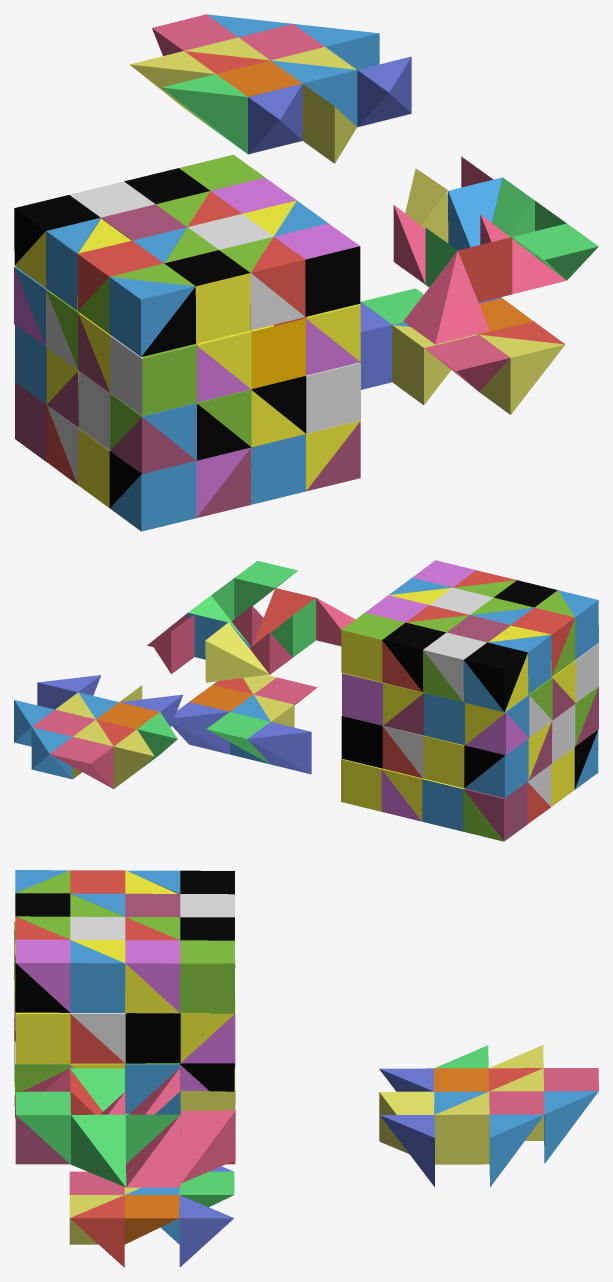
3 views of the same model, one above another, from view 1: azimuth 30°, elevation 25°; view 2: azimuth 150°, elevation 25°; view 3: azimuth 270°, elevation 25° (orthographic). The views are drawn at different scales.
Parts seen in each view (by area): view 1: Cube.365, Cube.297, Cube.221, Cube.291, Cube.208, Cube.295, Cube.375, Cube.248, Cube.369, Cube.300, Cube.212, Cube.325 (+82 smaller); view 2: Cube.309, Cube.358, Cube.229, Cube.231, Cube.269, Cube.307, Cube.204, Cube.351, Cube.328, Cube.337, Cube.273, Cube.279 (+81 smaller); view 3: Cube.318, Cube.334, Cube.331, Cube.377, Cube.327, Cube.321, Cube.343, Cube.374, Cube.328, Cube.319, Cube.347, Cube.320 (+54 smaller).
Boxes of the visible parts, x1,y1,x2,y2 form: Cube.365: (109, 277, 195, 356); Cube.297: (403, 251, 489, 344); Cube.221: (110, 461, 196, 531); Cube.291: (162, 74, 247, 153); Cube.208: (479, 334, 565, 414); Cube.295: (142, 344, 196, 416); Cube.375: (305, 246, 360, 316); Cube.248: (306, 362, 360, 433); Cube.369: (195, 273, 250, 343); Cube.300: (248, 83, 302, 154); Cube.212: (251, 434, 305, 504); Cube.325: (357, 56, 411, 127); Cube.309: (205, 622, 269, 682); Cube.358: (464, 642, 527, 711); Cube.229: (247, 722, 311, 774); Cube.231: (463, 782, 527, 841); Cube.269: (464, 738, 528, 798); Cube.307: (50, 737, 113, 788); Cube.204: (171, 702, 229, 754); Cube.351: (423, 632, 486, 701); Cube.328: (234, 561, 297, 618); Cube.337: (382, 622, 445, 691); Cube.273: (423, 735, 464, 788); Cube.279: (341, 716, 382, 768); Cube.318: (180, 1110, 235, 1183); Cube.334: (434, 1091, 489, 1164); Cube.331: (71, 1114, 126, 1187); Cube.377: (70, 940, 125, 1012); Cube.327: (15, 1012, 70, 1063); Cube.321: (125, 1013, 180, 1063); Cube.343: (180, 963, 235, 1013); Cube.374: (15, 939, 70, 1012); Cube.328: (15, 1091, 70, 1164); Cube.319: (126, 1115, 181, 1187); Cube.347: (125, 940, 180, 1012); Cube.320: (489, 1114, 543, 1187).
Size of the model in its own units: 1875 by 824 by 2130.
